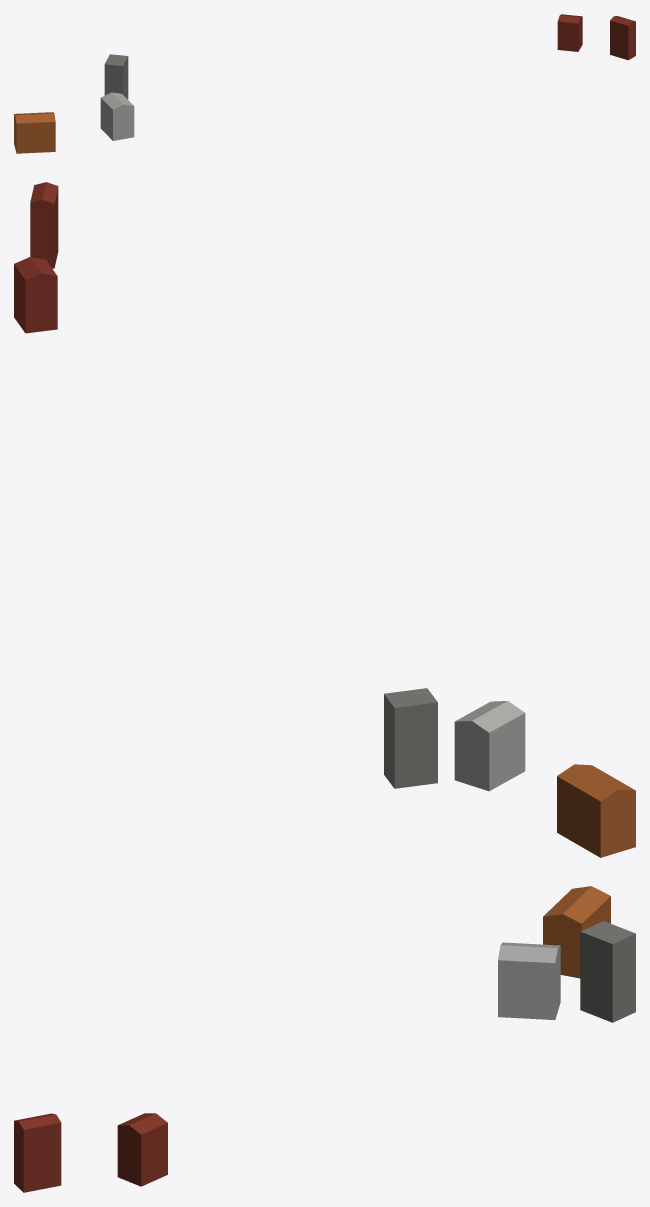
The model's file is near-15-27353-14861.9fdf2b2e.glb.
3 renders of one model, top to bottom at view 1: azimuth 30°, elevation 25°; view 2: azimuth 150°, elevation 25°; view 3: azimuth 270°, elevation 25°, orthographic. The views are drawn at different scales.
Size of the model in its own units: 282 by 74.13 by 177.
